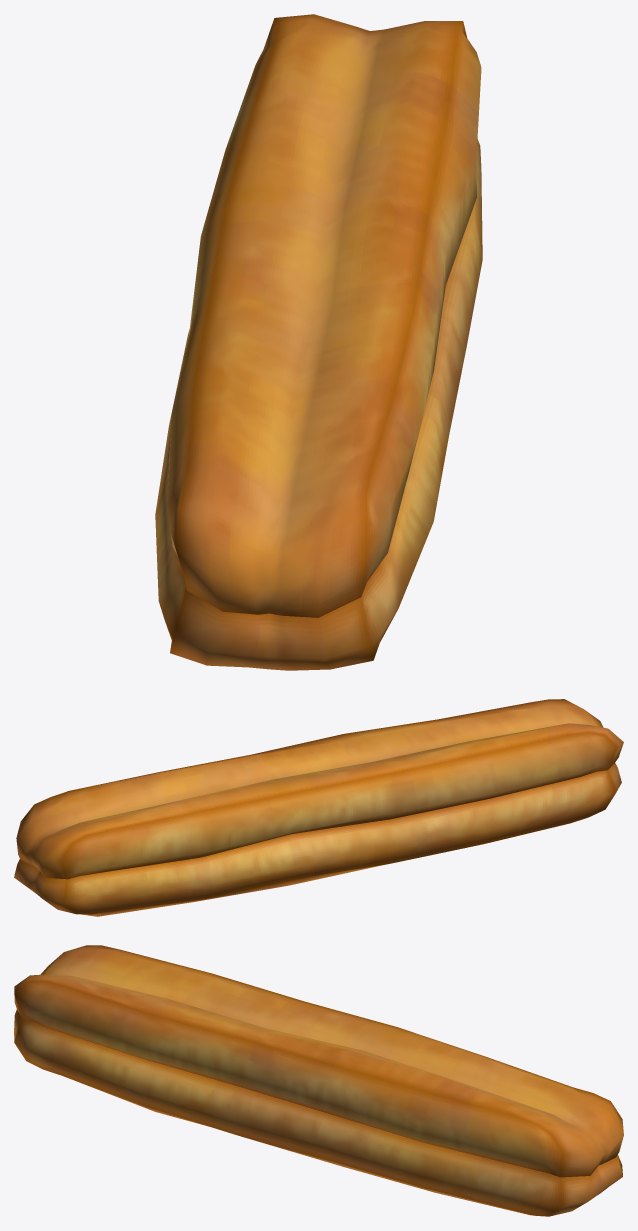
Rendered from ref_bffrieddoughstick.glb.
3 renders of one model, top to bottom at view 1: azimuth 30°, elevation 25°; view 2: azimuth 150°, elevation 25°; view 3: azimuth 270°, elevation 25°, orthographic. The views are drawn at different scales.
Visible parts, largest first — view 1: ref_bffrieddoughstick; view 2: ref_bffrieddoughstick; view 3: ref_bffrieddoughstick.
Boxes of the visible parts, box(x1,y1,x2,y2) form: ref_bffrieddoughstick: box(155, 14, 482, 670); ref_bffrieddoughstick: box(14, 699, 623, 916); ref_bffrieddoughstick: box(14, 945, 623, 1216).
Size of the model in its own units: 0.7675 by 0.2066 by 1.
Materials: 1 (1 with a texture image).
